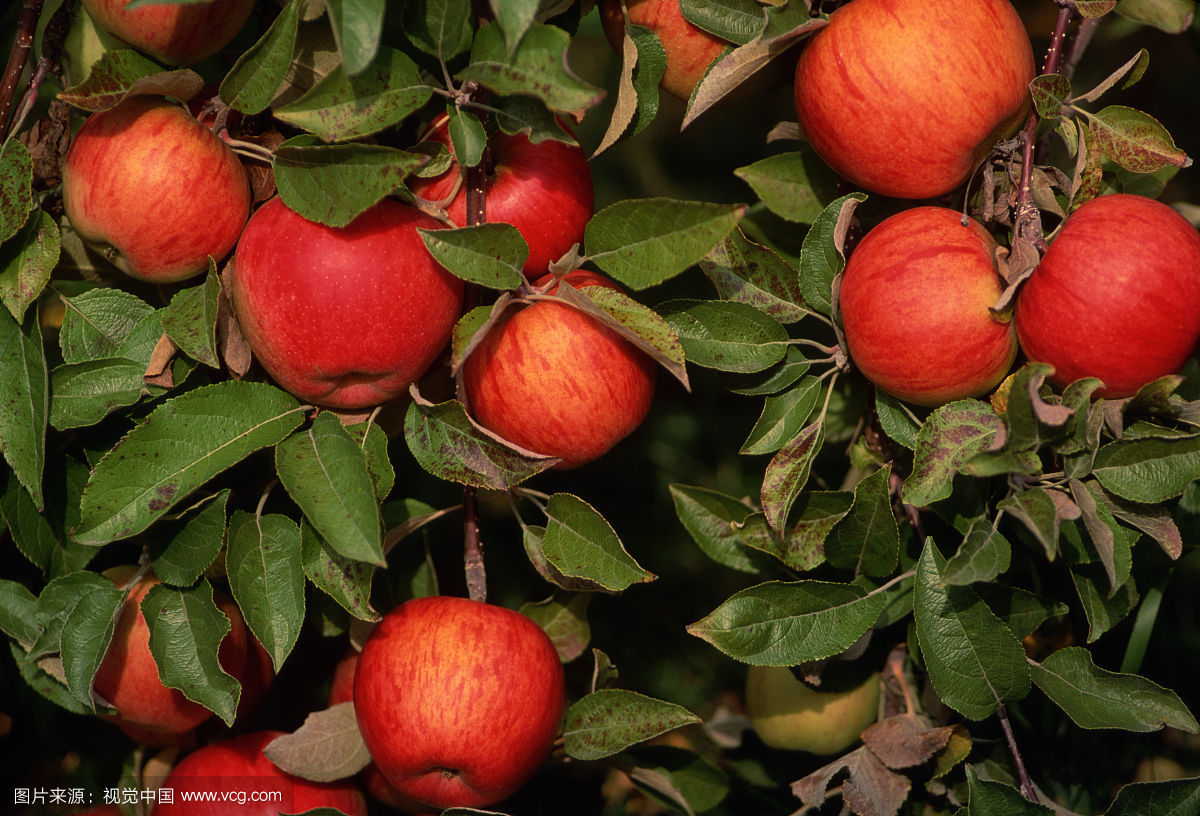apple: (794, 1, 1043, 196), (351, 596, 568, 804), (1020, 196, 1199, 394), (838, 205, 1016, 403), (58, 99, 245, 276)
obscured(1)_apple: (227, 185, 456, 402), (463, 276, 664, 461)
obscured(3)_apple: (406, 99, 601, 264)
